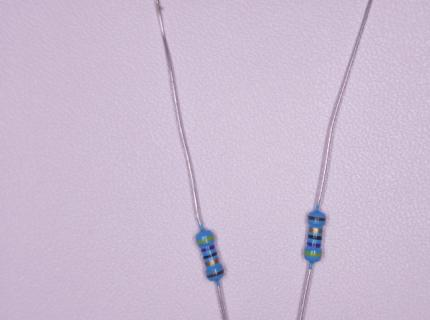Black band: (203, 252, 217, 259), (308, 234, 322, 240)
Brown band: (206, 269, 224, 278), (308, 215, 326, 221)
Gold band: (204, 258, 220, 266), (308, 227, 323, 233)
Violet band: (201, 244, 215, 252), (307, 241, 321, 247)
Yellow band: (196, 235, 214, 245), (304, 251, 322, 257)
